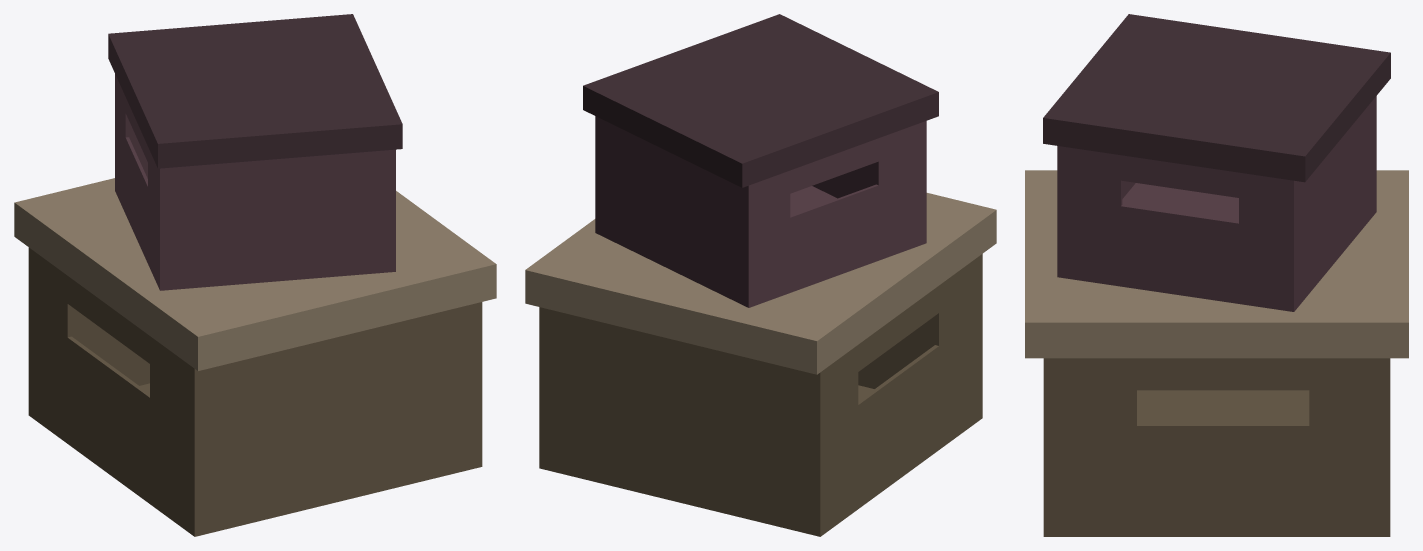
File: colored boxes livingroom.fbx
The picture shows the model from 3 angles, left to right: view 1: azimuth 30°, elevation 25°; view 2: azimuth 150°, elevation 25°; view 3: azimuth 270°, elevation 25°; orthographic projection. The views are drawn at different scales.
Visible parts, largest first — view 1: pCube1, pCube2, pCube3, pCube4; view 2: pCube1, pCube4, pCube3, pCube2; view 3: pCube1, pCube4, pCube3, pCube2.
Boxes of the visible parts, x1,y1,x2,y2 form: pCube1: (28,247,482,536); pCube2: (14,178,496,370); pCube3: (108,14,402,168); pCube4: (115,74,395,290); pCube1: (539,254,982,536); pCube4: (595,116,926,307); pCube3: (583,14,938,187); pCube2: (525,193,996,374); pCube1: (1043,358,1390,536); pCube4: (1057,96,1376,311); pCube3: (1043,14,1390,182); pCube2: (1025,170,1408,358).
Size of the model in its own units: 0.9301 by 1.08 by 0.9914.
